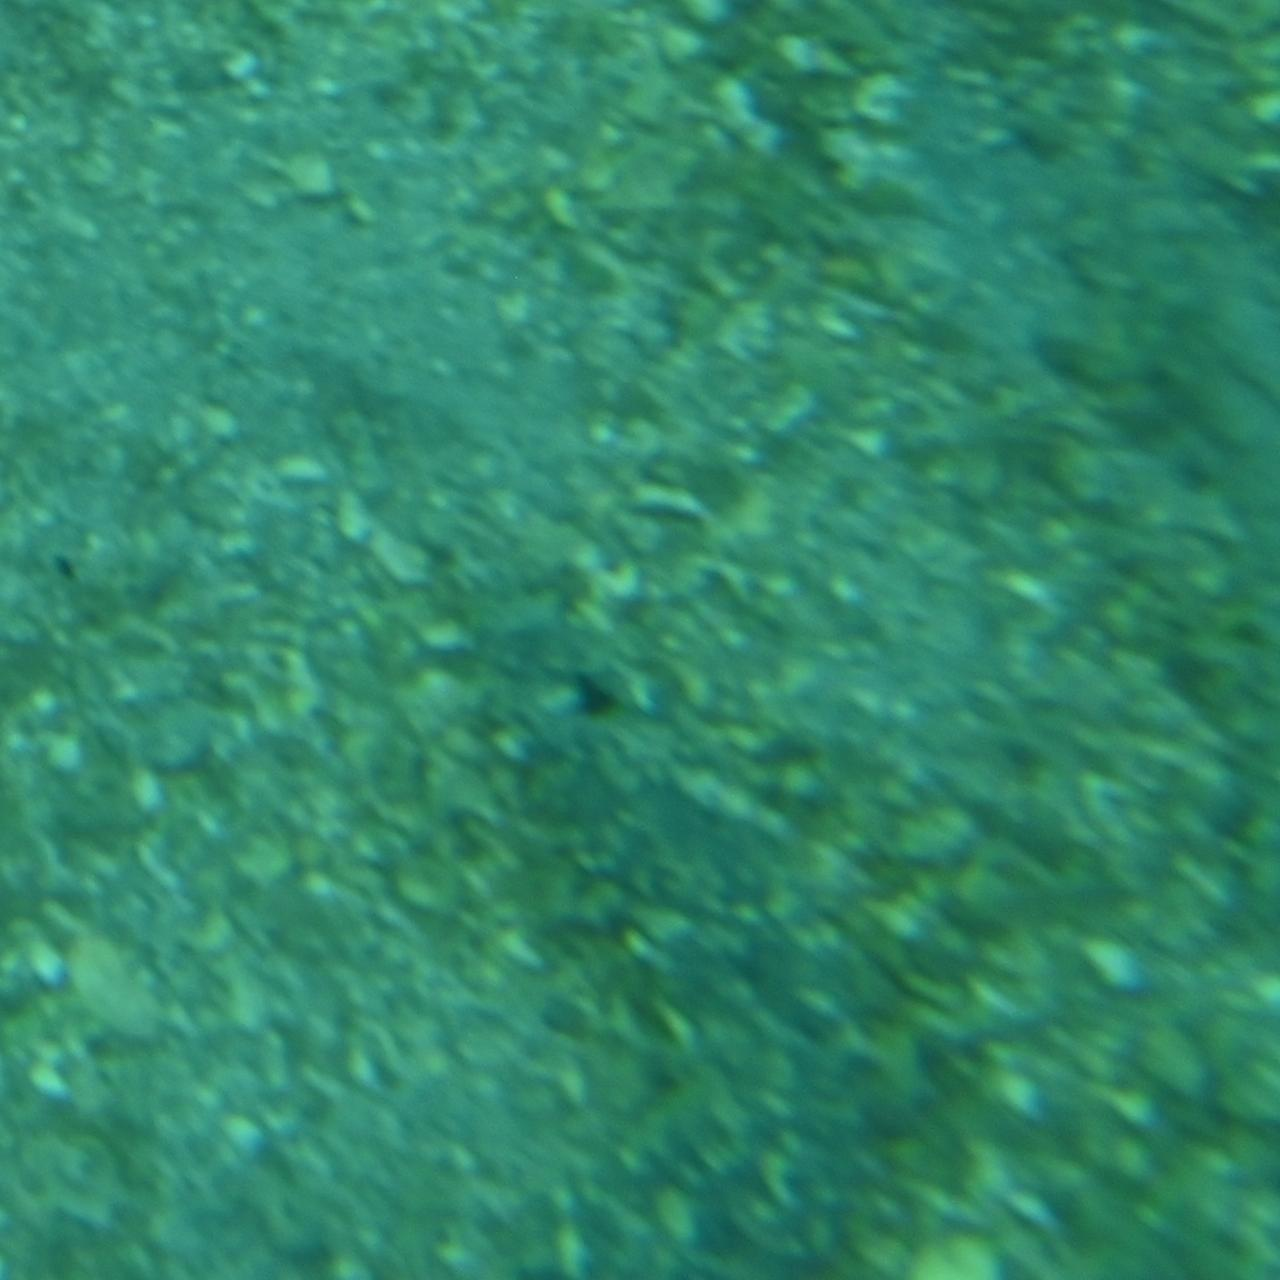Holothuria tubulosa: (430, 614, 850, 1277)
